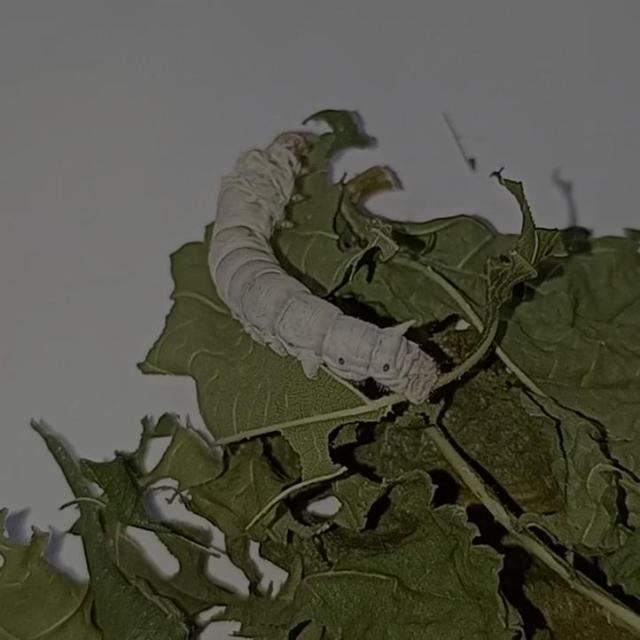Healthy: (200, 118, 451, 420)
